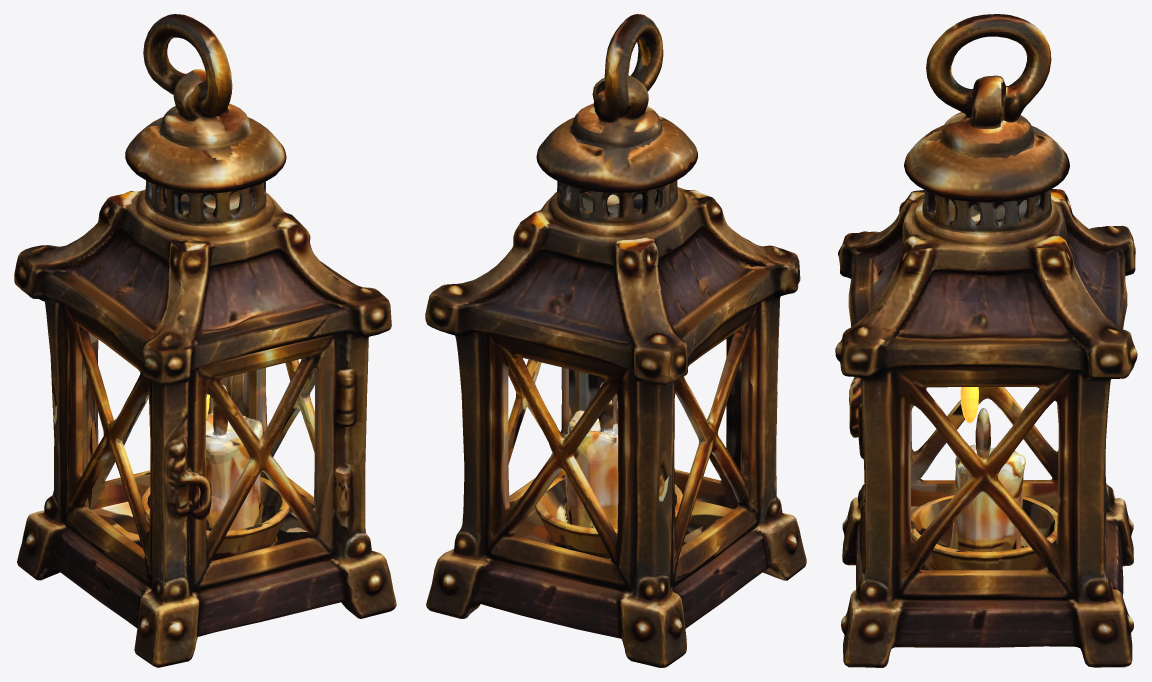
Rendered from lantern-trial.glb.
3 views of the same model, side by side, from view 1: azimuth 30°, elevation 25°; view 2: azimuth 150°, elevation 25°; view 3: azimuth 270°, elevation 25° (orthographic). The views are drawn at different scales.
Parts seen in each view (by area): view 1: geometry_0; view 2: geometry_0; view 3: geometry_0, Flame_emissive_test.
Boxes of the visible parts, x1,y1,x2,y2 form: geometry_0: [14, 14, 396, 667]; geometry_0: [425, 14, 806, 667]; geometry_0: [835, 14, 1137, 667]; Flame_emissive_test: [960, 387, 978, 423].
Size of the model in its own units: 0.2051 by 0.45 by 0.2098.
Materials: 2 (1 with a texture image).
